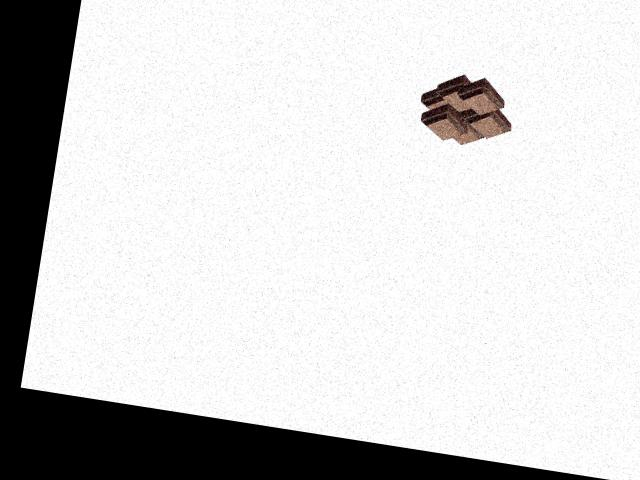chocolate: (411, 71, 516, 154)
